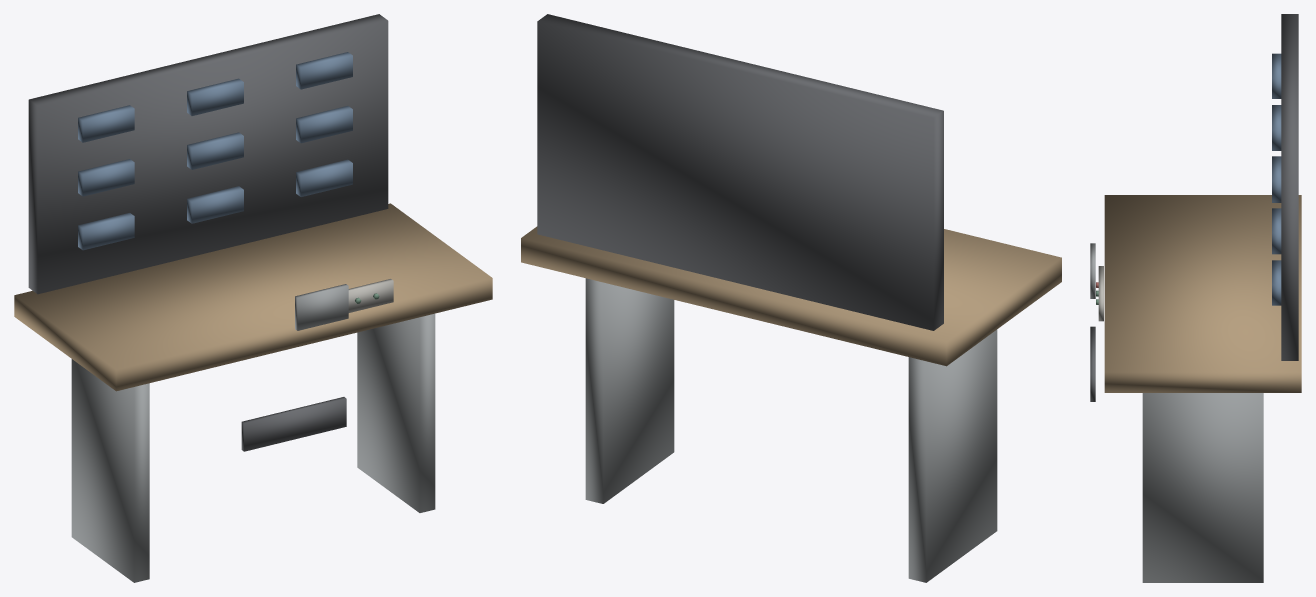
File: electronics_repair_bench__weathered.glb
3 views of the same model, side by side, from view 1: azimuth 30°, elevation 25°; view 2: azimuth 150°, elevation 25°; view 3: azimuth 270°, elevation 25° (orthographic). The views are drawn at different scales.
Visible parts, largest first — view 1: world; view 2: world; view 3: world.
Part boxes in pixels (x1,y1,x2,y2): world: [14, 14, 492, 582]; world: [521, 14, 1061, 582]; world: [1090, 14, 1301, 582].
Size of the model in its own units: 1.45 by 1.58 by 0.7298.
